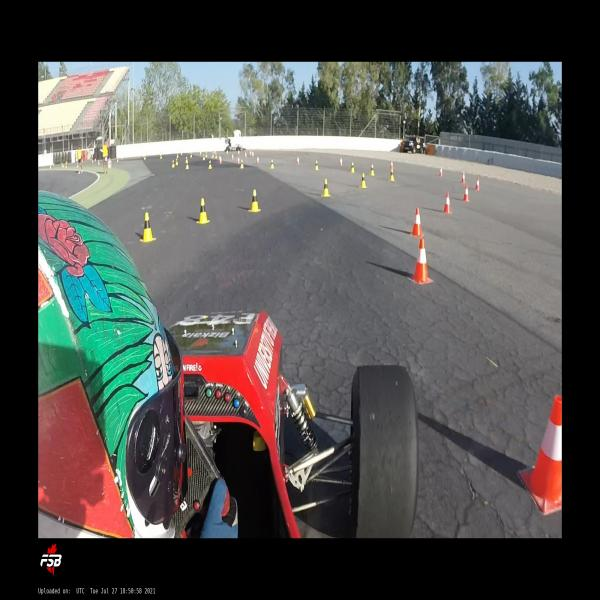orange_cone: (518, 394, 562, 515), (408, 238, 434, 284), (410, 206, 424, 238), (442, 192, 452, 213), (462, 184, 470, 202), (475, 177, 480, 190), (462, 172, 465, 184), (390, 160, 394, 169), (218, 155, 222, 164), (439, 167, 442, 176), (237, 157, 240, 164), (340, 157, 342, 166), (297, 156, 299, 164), (257, 157, 259, 164), (232, 154, 234, 160)
yellow_cone: (140, 212, 156, 243), (196, 198, 210, 224), (248, 189, 261, 212), (320, 178, 330, 196), (360, 172, 368, 188), (388, 168, 394, 182), (369, 164, 375, 177), (240, 158, 244, 169), (315, 160, 319, 170), (208, 159, 212, 169), (171, 158, 175, 168), (185, 160, 189, 169), (351, 162, 354, 173), (271, 158, 274, 169), (185, 156, 188, 163), (176, 157, 178, 165), (203, 154, 205, 160)
